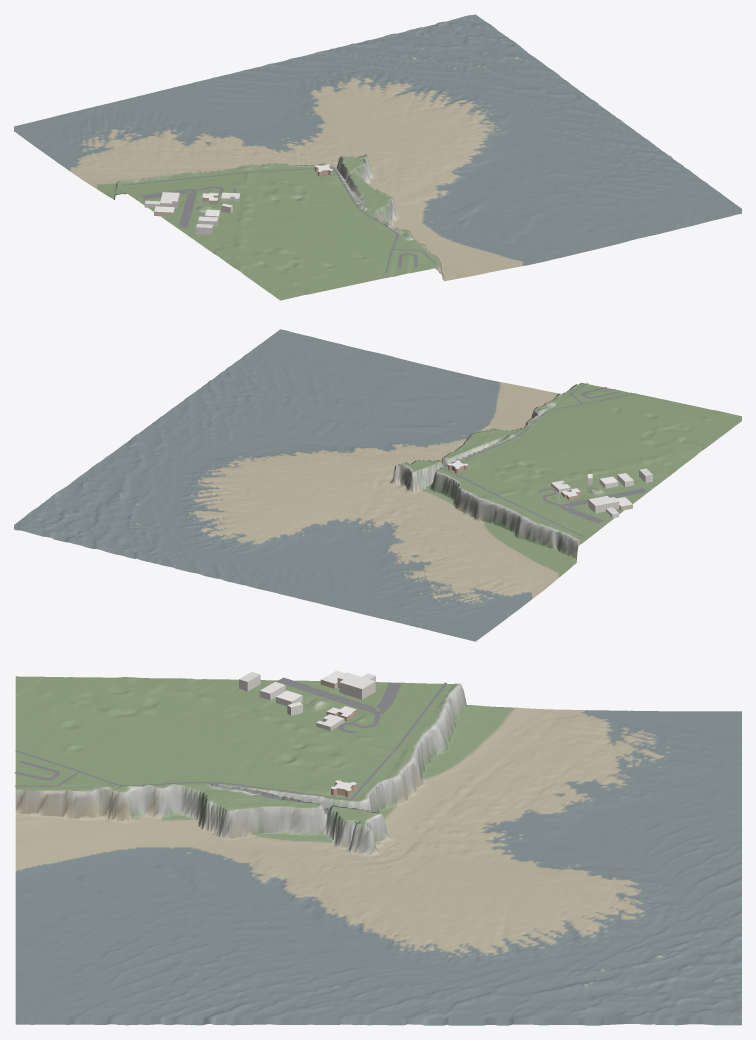
The picture shows the model from 3 angles, top to bottom: view 1: azimuth 30°, elevation 25°; view 2: azimuth 150°, elevation 25°; view 3: azimuth 270°, elevation 25°; orthographic projection. The views are drawn at different scales.
Parts seen in each view (by area): view 1: prim0, prim1, prim2; view 2: prim0, prim1, prim2; view 3: prim0, prim2, prim1.
Boxes of the visible parts, x1=… form: prim0: x1=14, y1=14, x2=741, y2=300; prim1: x1=144, y1=164, x2=332, y2=234; prim2: x1=122, y1=167, x2=435, y2=272; prim0: x1=14, y1=329, x2=741, y2=641; prim1: x1=448, y1=460, x2=652, y2=518; prim2: x1=426, y1=383, x2=646, y2=537; prim0: x1=15, y1=676, x2=741, y2=1025; prim2: x1=14, y1=677, x2=446, y2=813; prim1: x1=239, y1=670, x2=375, y2=797.
Size of the model in its own units: 522 by 37.71 by 513.
